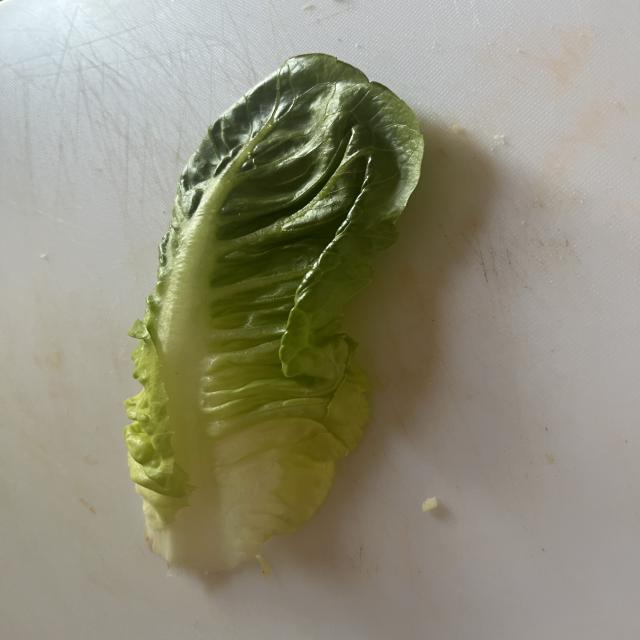lettuce: (124, 53, 423, 571)
